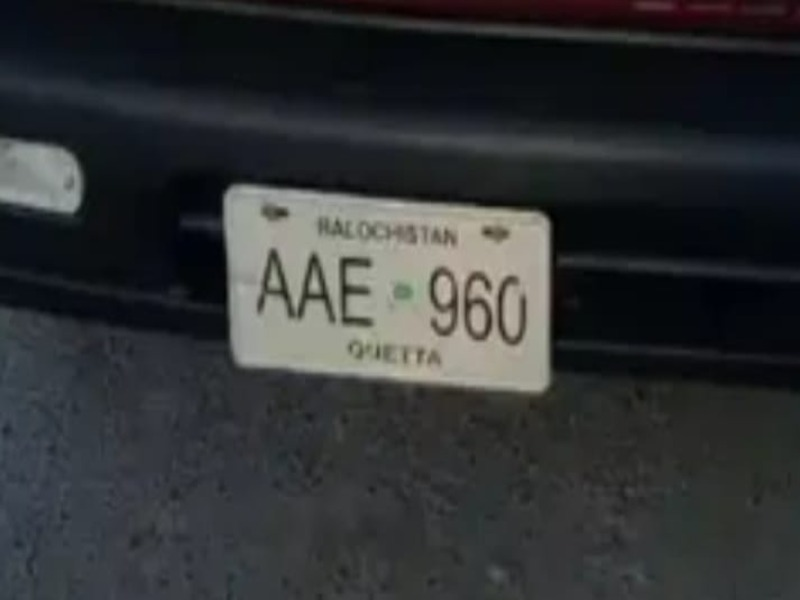License Plate: (215, 174, 555, 401)
